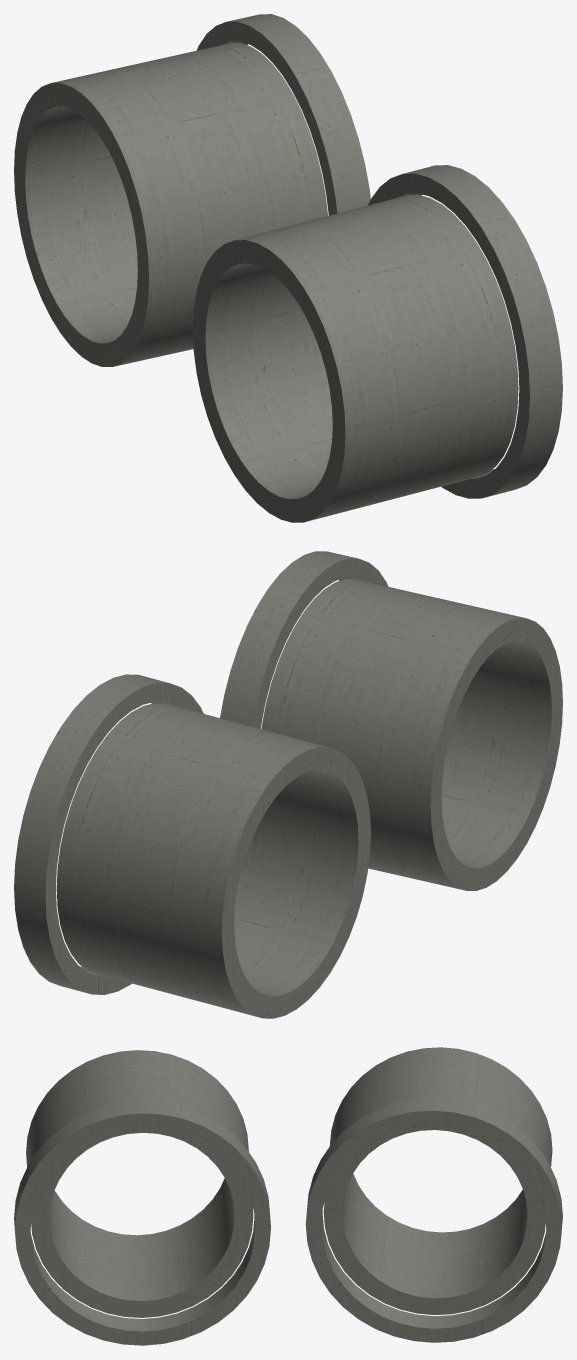
Rendered from HID-DRN-003_anim.glb.
3 views of the same model, one above another, from view 1: azimuth 30°, elevation 25°; view 2: azimuth 150°, elevation 25°; view 3: azimuth 270°, elevation 25° (orthographic). The views are drawn at different scales.
Parts seen in each view (by area): view 1: HID-DRN-003_anim0, HID-DRN-003_anim1; view 2: HID-DRN-003_anim1, HID-DRN-003_anim0; view 3: HID-DRN-003_anim1, HID-DRN-003_anim0.
Part boxes in pixels (box(x1,y1,x2,y2)): HID-DRN-003_anim0: box(192, 165, 562, 522); HID-DRN-003_anim1: box(14, 14, 370, 366); HID-DRN-003_anim1: box(14, 674, 370, 1018); HID-DRN-003_anim0: box(220, 551, 562, 890); HID-DRN-003_anim1: box(305, 1047, 562, 1342); HID-DRN-003_anim0: box(14, 1050, 270, 1345).
Bounding box in the file's own units: 1.09 × 1.42 × 2.96.
1 material, 1 textured.
